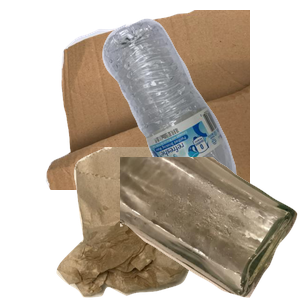cardboard: (43, 10, 283, 190)
glass: (120, 157, 300, 300)
plastic: (100, 16, 300, 196)
trash: (54, 147, 271, 300)
